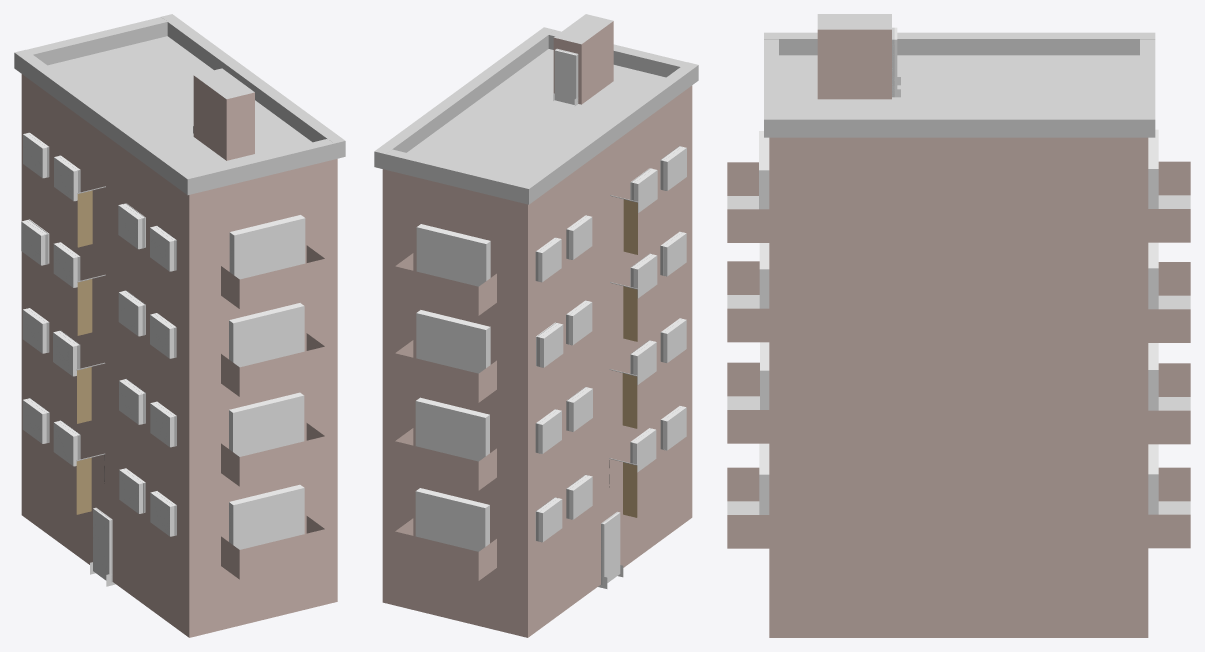
File: house1.fbx
3 views of the same model, side by side, from view 1: azimuth 30°, elevation 25°; view 2: azimuth 150°, elevation 25°; view 3: azimuth 270°, elevation 25° (orthographic). The views are drawn at different scales.
Parts seen in each view (by area): view 1: Room, Ceiling, Cube, Cube.001, Room.009, CTRL_Hole.024, CTRL_Hole.013, CTRL_Hole.014, CTRL_Hole.023, Room.006, Room.008, Room.005 (+25 smaller); view 2: Room, Ceiling, Cube, Cube.001, CTRL_Hole.005, CTRL_Hole.004, CTRL_Hole.003, CTRL_Hole.006, Room.004, Room.002, Room.003, Room.001 (+26 smaller); view 3: Room, Ceiling, Cube.001, Cube, Room.009, Room.001, Room.002, Room.007, Room.006, Room.004, Room.005, Room.003 (+11 smaller).
Boxes of the visible parts, box(x1,y1,x2,y2) form: Room: box(21, 74, 337, 637); Ceiling: box(48, 36, 312, 171); Cube: box(14, 49, 199, 195); Cube.001: box(161, 14, 345, 159); Room.009: box(193, 75, 254, 160); CTRL_Hole.024: box(229, 215, 305, 279); CTRL_Hole.013: box(229, 485, 304, 549); CTRL_Hole.014: box(229, 392, 304, 456); CTRL_Hole.023: box(229, 303, 304, 367); Room.006: box(221, 423, 325, 486); Room.008: box(221, 245, 325, 309); Room.005: box(221, 516, 325, 579); Room: box(382, 85, 692, 637); Ceiling: box(407, 49, 665, 181); Cube: box(517, 62, 698, 204); Cube.001: box(374, 27, 554, 169); CTRL_Hole.005: box(416, 310, 490, 373); CTRL_Hole.004: box(415, 398, 489, 461); CTRL_Hole.003: box(415, 488, 489, 551); CTRL_Hole.006: box(416, 224, 490, 286); Room.004: box(395, 253, 496, 315); Room.002: box(395, 428, 496, 490); Room.003: box(395, 340, 496, 402); Room.001: box(395, 518, 496, 580); Room: box(769, 137, 1148, 637); Ceiling: box(779, 55, 1139, 113); Cube.001: box(764, 113, 1155, 137); Cube: box(764, 32, 1155, 55); Room.009: box(817, 29, 891, 99); Room.001: box(1148, 467, 1190, 548); Room.002: box(1148, 363, 1190, 444); Room.007: box(727, 261, 769, 342); Room.006: box(727, 362, 769, 443); Room.004: box(1148, 161, 1190, 242); Room.005: box(727, 467, 769, 548); Room.003: box(1148, 262, 1190, 342).
Size of the model in its own units: 640 by 1718 by 1247.
